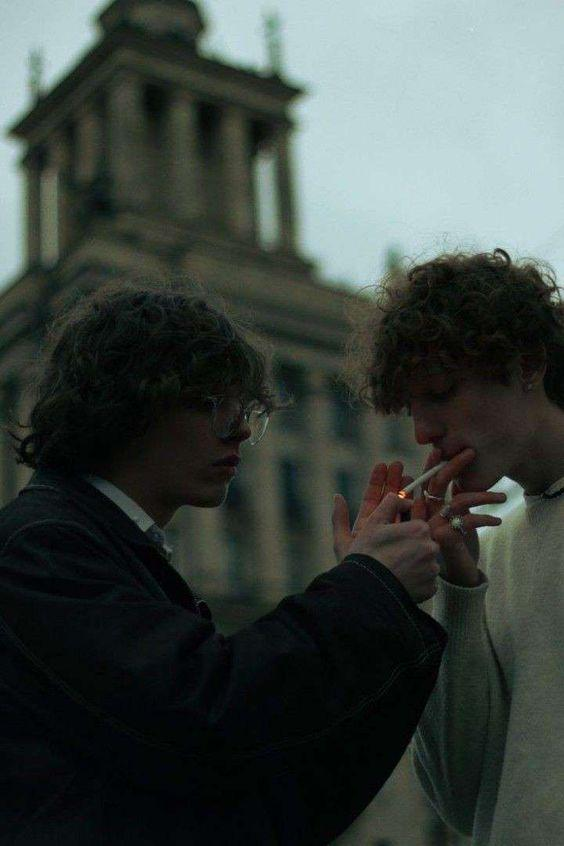cigarette: (397, 456, 454, 500)
